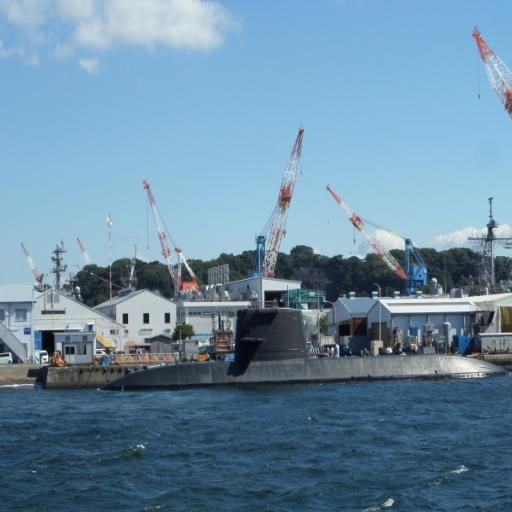submarine: (112, 304, 509, 374)
